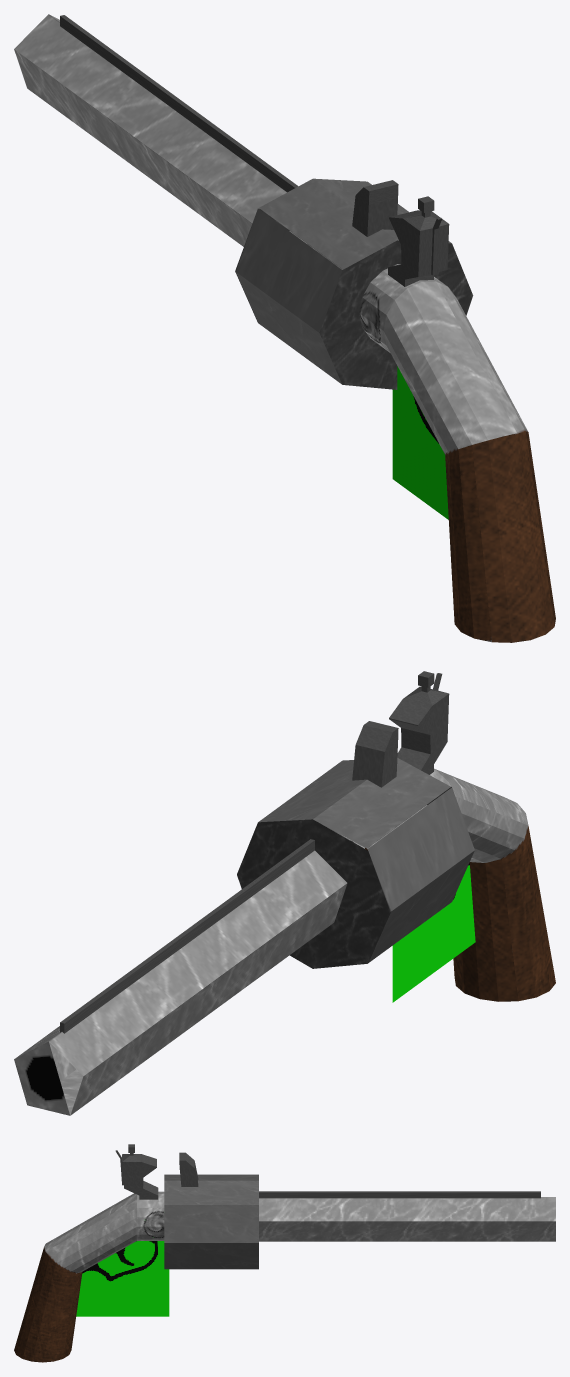
File: revolver.obj
3 renders of one model, top to bottom at view 1: azimuth 30°, elevation 25°; view 2: azimuth 150°, elevation 25°; view 3: azimuth 270°, elevation 25°, orthographic. The views are drawn at different scales.
Parts seen in each view (by area): view 1: Cylinder, Cube_Cube.002, Cylinder.002, Cube.001_Cube.005, Cube.003_Cube.004, Cube_Cube.001, Cube.002_Cube.003; view 2: Cube_Cube.002, Cylinder.002, Cylinder, Cube.001_Cube.005, Cube.003_Cube.004, Cube_Cube.001, Cube.002_Cube.003; view 3: Cylinder.002, Cylinder, Cube_Cube.002, Cube.001_Cube.005, Cube_Cube.001, Cube.003_Cube.004, Cube.002_Cube.003.
Boxes of the visible parts, x1,y1,x2,y2 form: Cylinder: [307, 244, 555, 642]; Cube_Cube.002: [235, 178, 473, 389]; Cylinder.002: [14, 14, 307, 246]; Cube.001_Cube.005: [392, 366, 448, 519]; Cube.003_Cube.004: [388, 196, 449, 286]; Cube_Cube.001: [60, 15, 298, 192]; Cube.002_Cube.003: [352, 180, 398, 236]; Cube_Cube.002: [237, 758, 474, 968]; Cylinder.002: [14, 833, 364, 1115]; Cylinder: [365, 768, 555, 1001]; Cube.001_Cube.005: [392, 863, 475, 1002]; Cube.003_Cube.004: [389, 671, 449, 774]; Cube_Cube.001: [60, 839, 314, 1033]; Cube.002_Cube.003: [352, 721, 398, 787]; Cylinder.002: [259, 1197, 555, 1241]; Cylinder: [14, 1191, 164, 1362]; Cube_Cube.002: [164, 1174, 258, 1269]; Cube.001_Cube.005: [76, 1241, 169, 1316]; Cube_Cube.001: [259, 1191, 540, 1198]; Cube.003_Cube.004: [115, 1144, 158, 1199]; Cube.002_Cube.003: [179, 1152, 198, 1186].
Size of the model in its own units: 2.1 by 4.76 by 11.42.
